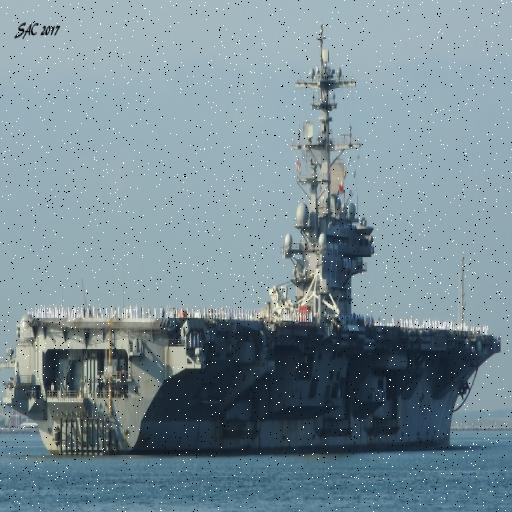Portanaves: (1, 33, 506, 457)
